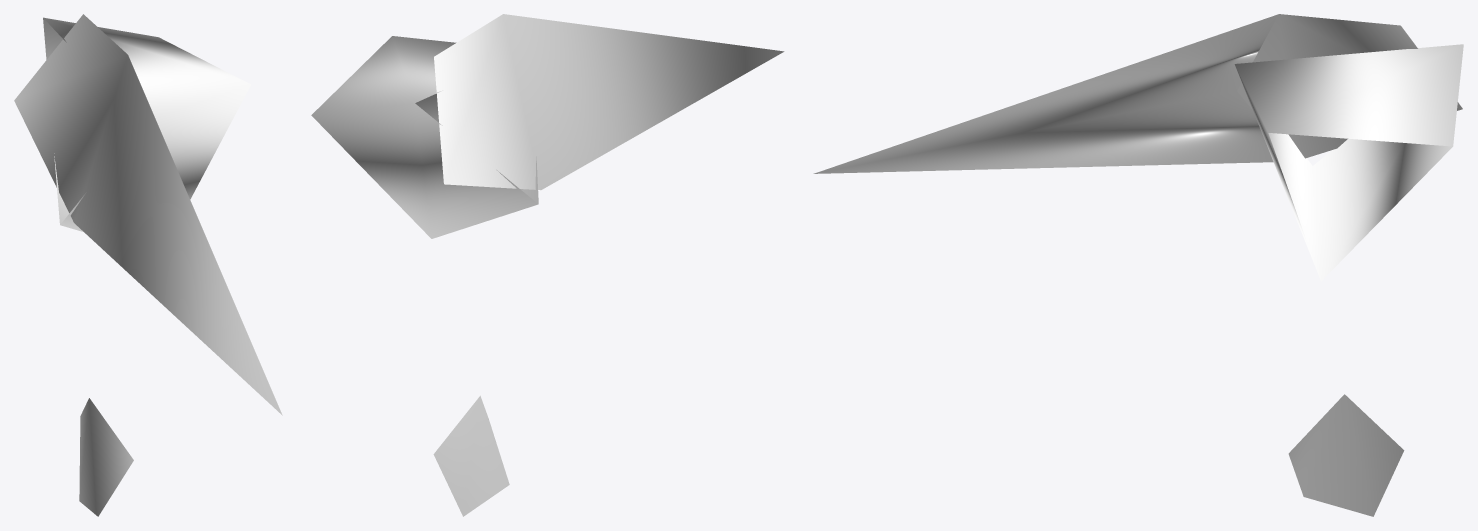
The picture shows the model from 3 angles, left to right: view 1: azimuth 30°, elevation 25°; view 2: azimuth 150°, elevation 25°; view 3: azimuth 270°, elevation 25°; orthographic projection. The views are drawn at different scales.
Bounding box in the file's own units: 0.0554 × 0.1376 × 0.1607.
1 material, 1 textured.
